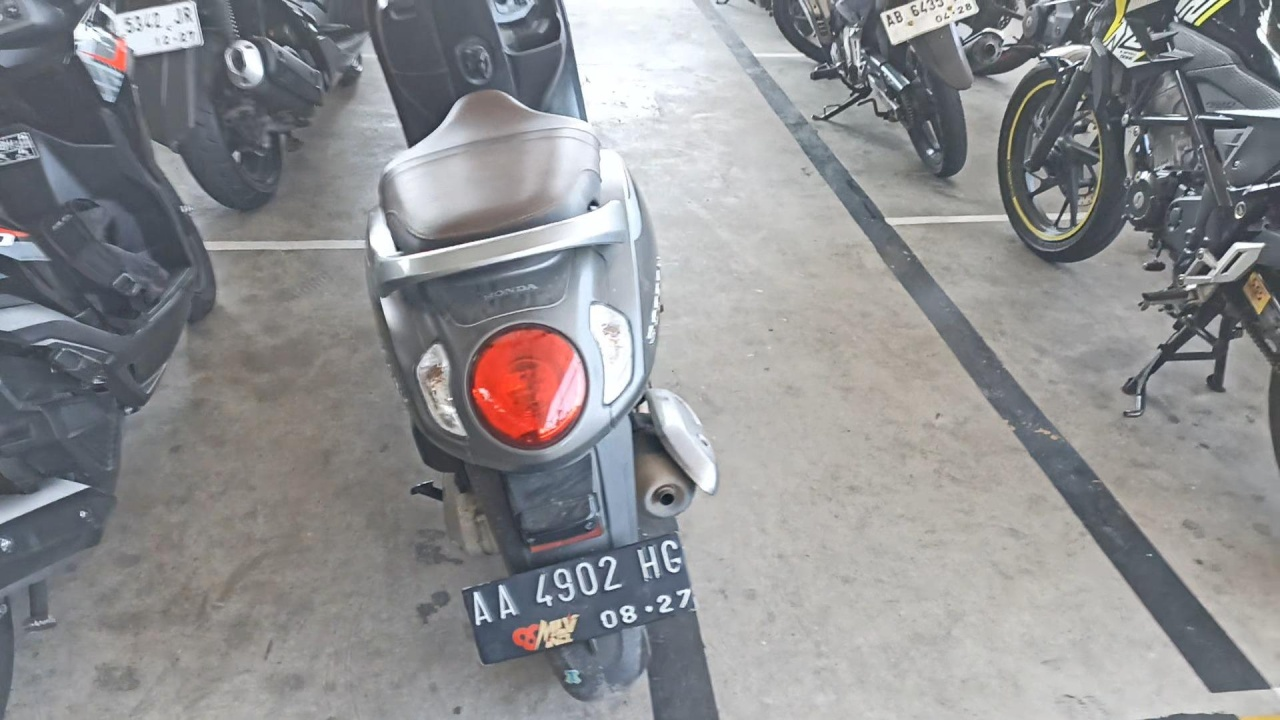plate: (463, 535, 699, 667)
